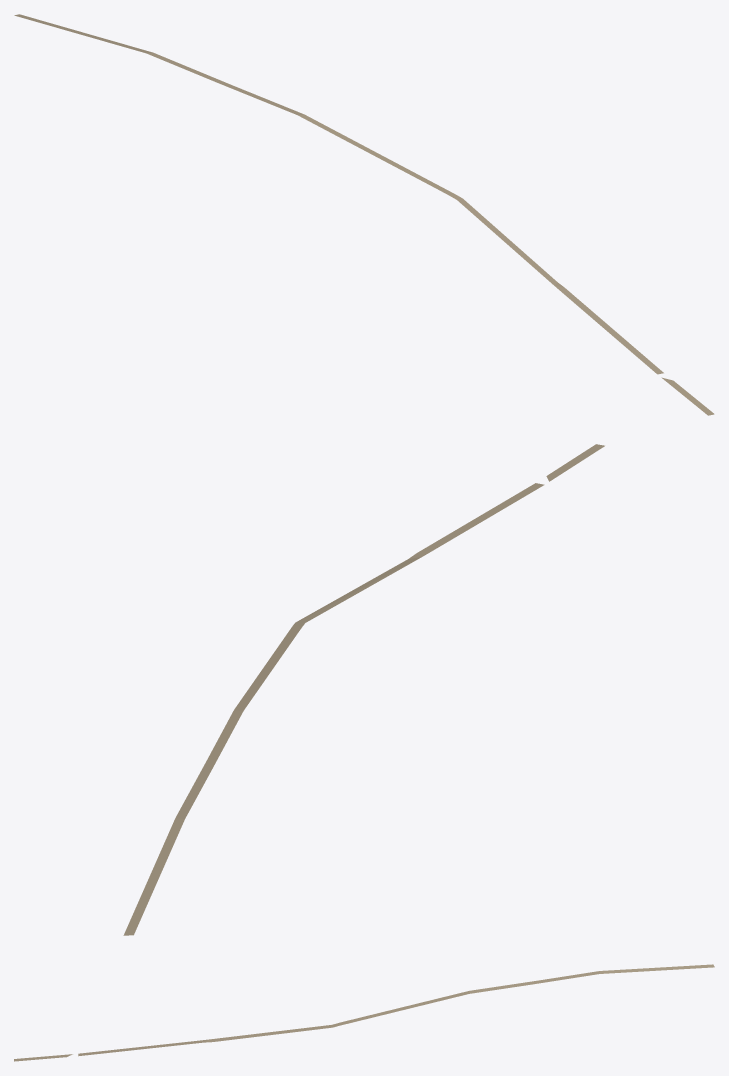
Rendered from farm_1_12_track.glb.
3 views of the same model, one above another, from view 1: azimuth 30°, elevation 25°; view 2: azimuth 150°, elevation 25°; view 3: azimuth 270°, elevation 25° (orthographic). The views are drawn at different scales.
Parts seen in each view (by area): view 1: geometry_0; view 2: geometry_0; view 3: geometry_0.
Part boxes in pixels (x1,y1,x2,y2): geometry_0: (14,14,714,415); geometry_0: (123,444,604,935); geometry_0: (14,964,714,1061).
Size of the model in its own units: 83.98 by 32.53 by 430.
